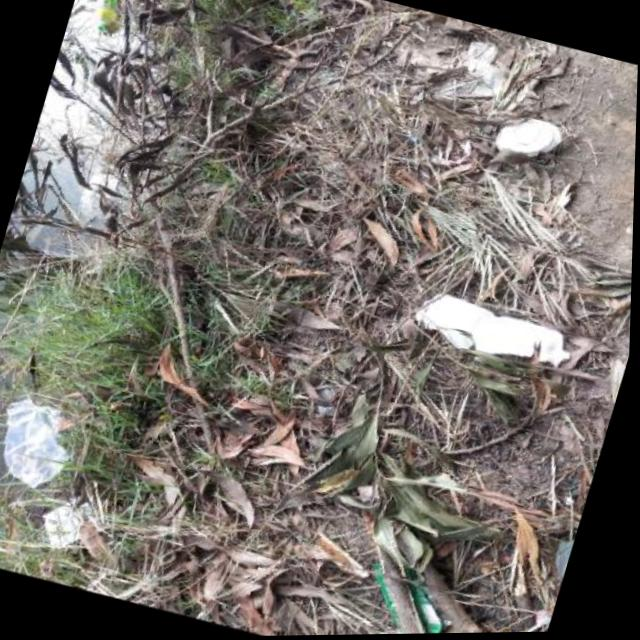plastic: (0, 397, 80, 497), (489, 109, 564, 167)
